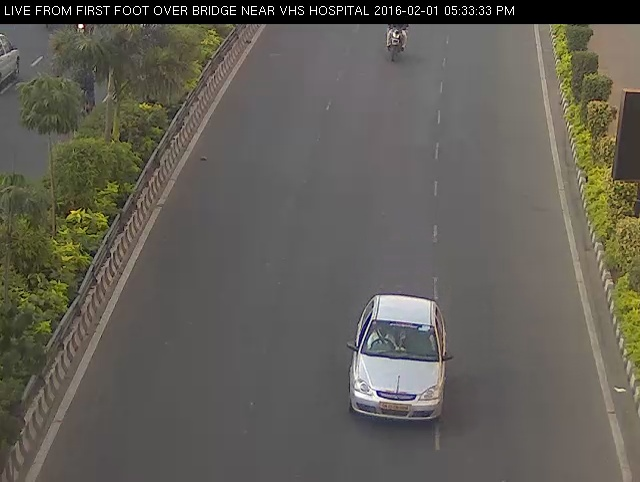Car: (339, 288, 464, 436)
Person: (378, 17, 419, 71)
